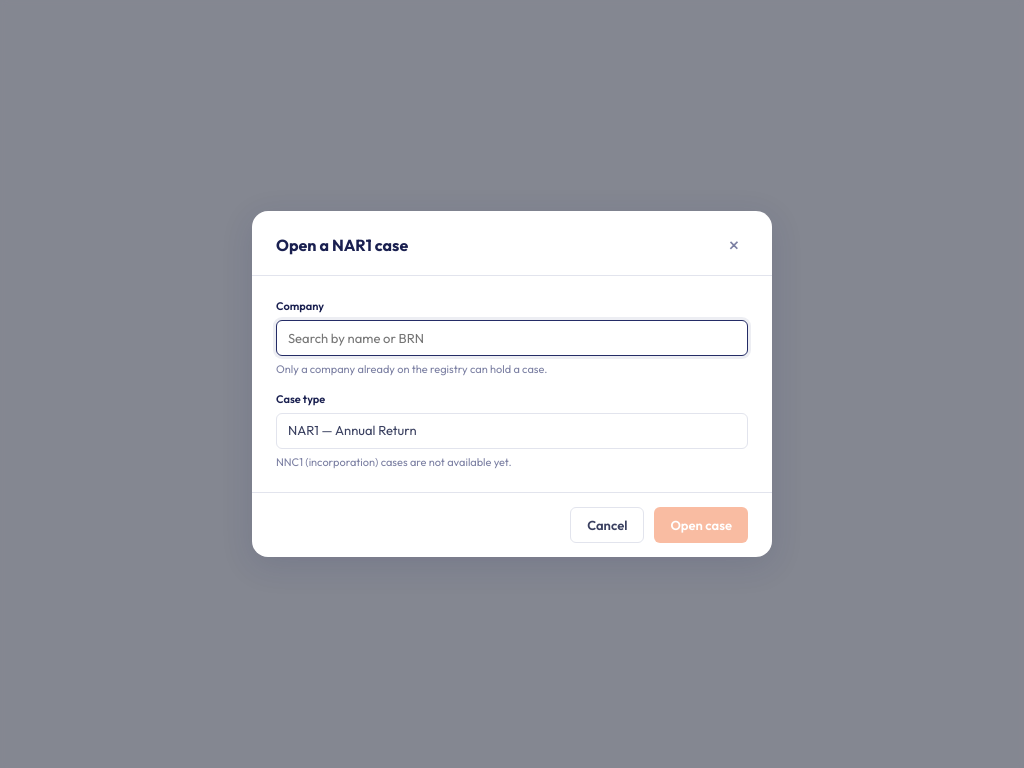
Test: NewCaseModal — from the dashboard (no company yet) › lists every reason the backend refused, not just the first
In the field labelled "Company": point(512, 338) [276,320,748,356], type "harbour"
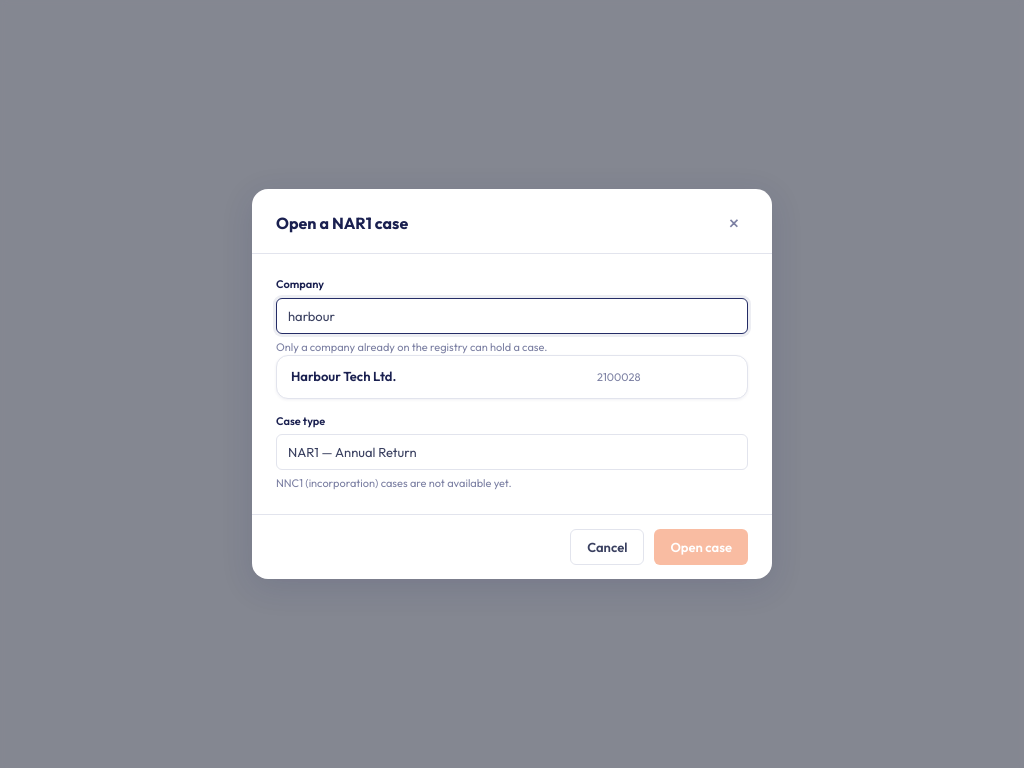
Click the text "Harbour Tech Ltd.": point(344, 376) [291,368,396,384]
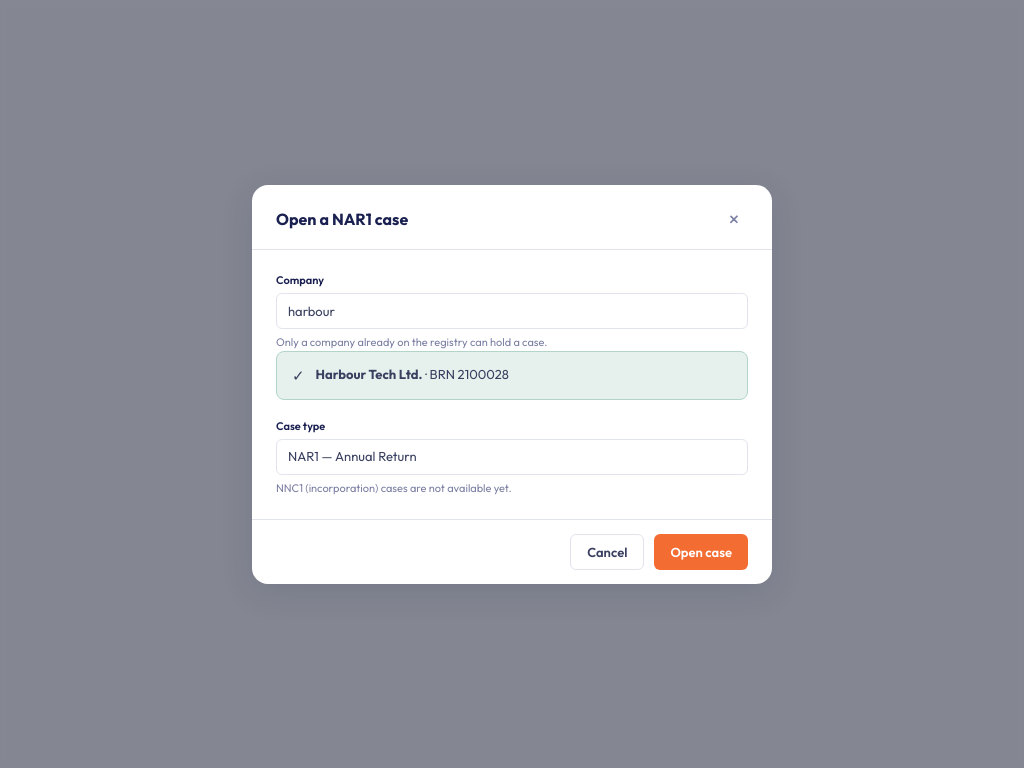
Click the button "Open case": point(701, 552) [654,534,748,570]
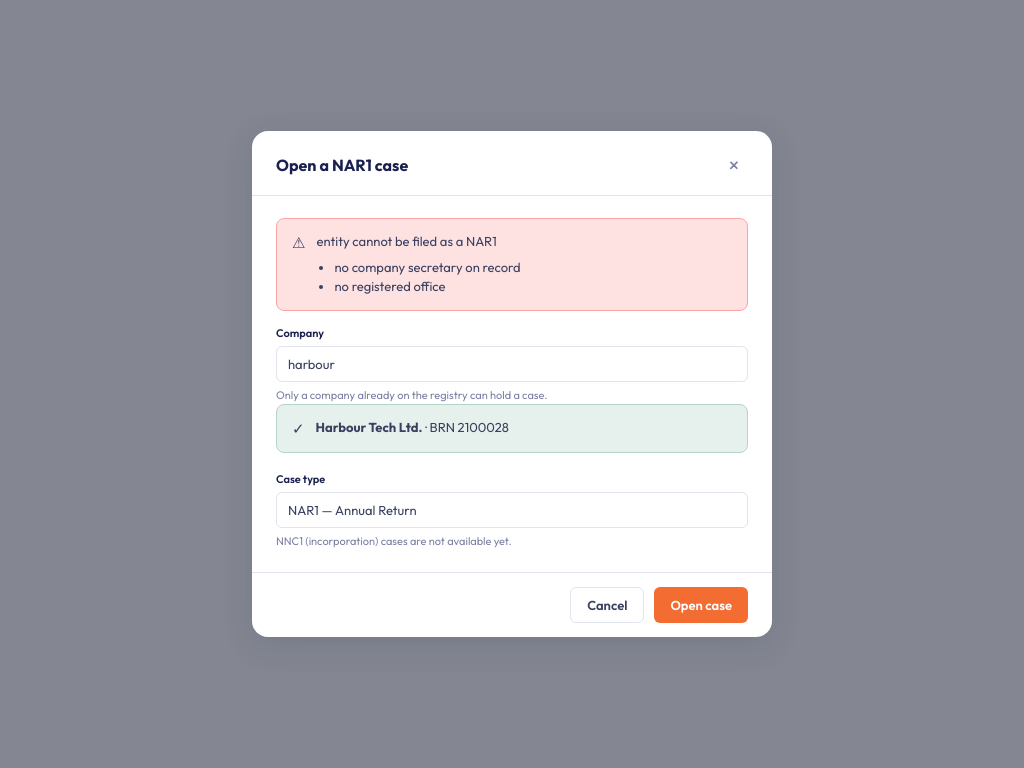
Expected: the list item "no company secretary on record" is shown, [334,258,521,277]
Expected: the list item "no registered office" is shown, [334,278,446,294]
